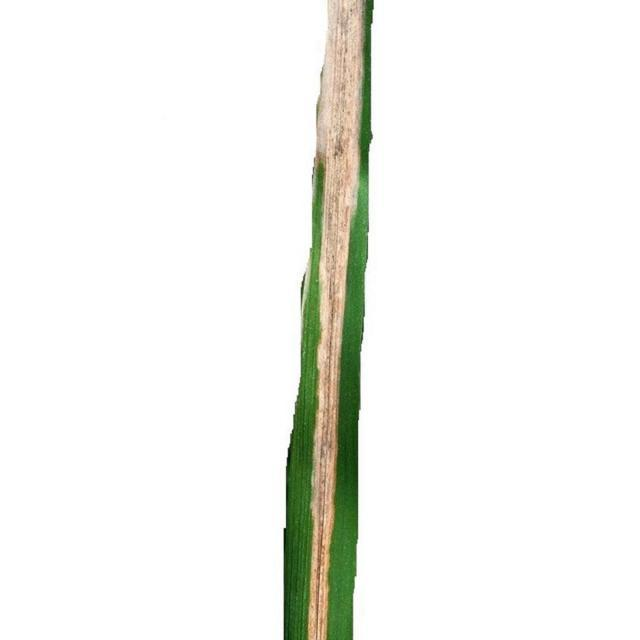leaf blight: (282, 1, 373, 640)
